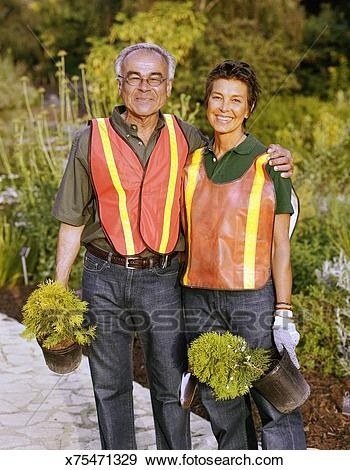person with partial safety: (52, 43, 197, 449), (183, 60, 302, 446)
safety vest: (180, 145, 284, 295), (84, 111, 188, 260)
